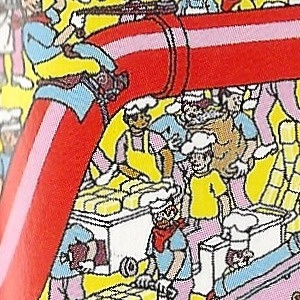Charlie: (134, 8, 166, 72)
